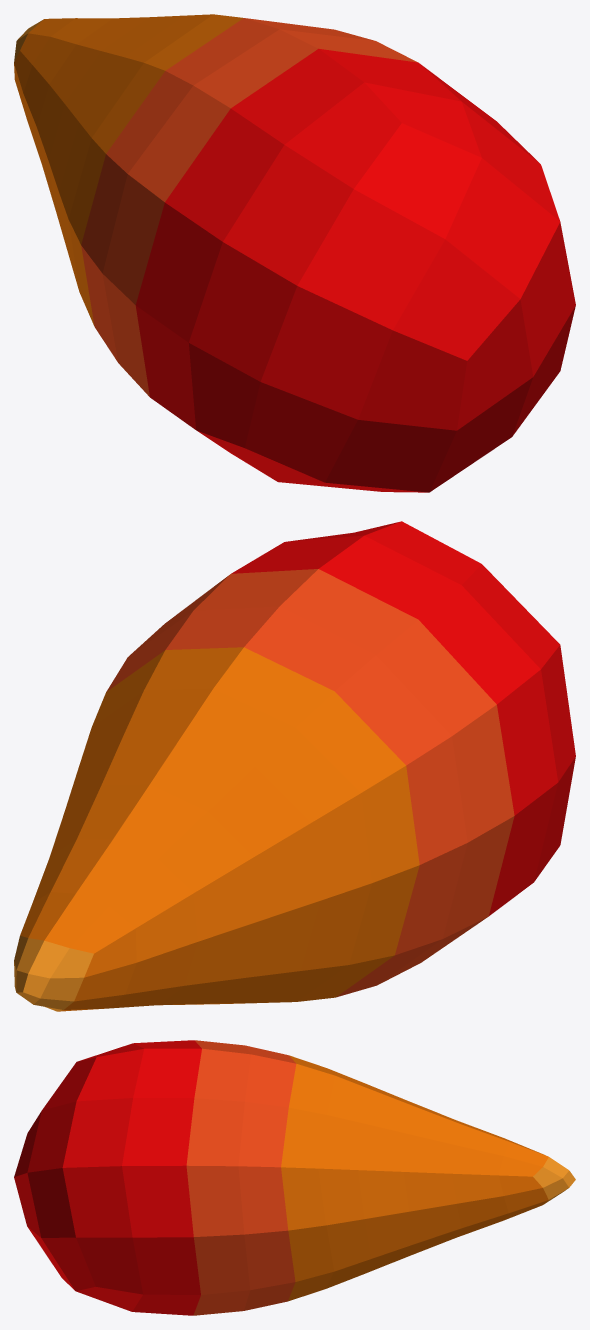
The model's file is FireBall.fbx.
3 renders of one model, top to bottom at view 1: azimuth 30°, elevation 25°; view 2: azimuth 150°, elevation 25°; view 3: azimuth 270°, elevation 25°, orthographic. The views are drawn at different scales.
Visible parts, largest first — view 1: fireBall; view 2: fireBall; view 3: fireBall.
Part boxes in pixels (left/top/right/bottom): fireBall: left=14, top=14, right=575, bottom=492; fireBall: left=14, top=521, right=575, bottom=1011; fireBall: left=14, top=1040, right=575, bottom=1315.
Size of the model in its own units: 15.4 by 15.73 by 31.28.
